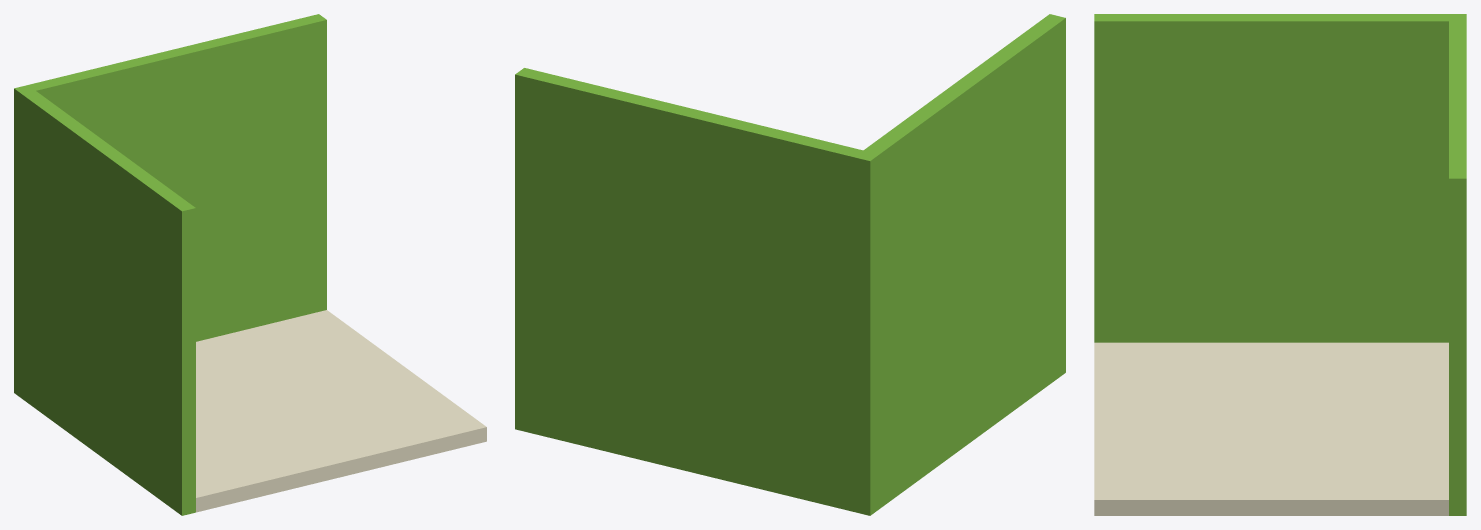
File: room_green.glb
The picture shows the model from 3 angles, left to right: view 1: azimuth 30°, elevation 25°; view 2: azimuth 150°, elevation 25°; view 3: azimuth 270°, elevation 25°; orthographic projection. The views are drawn at different scales.
Parts seen in each view (by area): view 1: wall; view 2: wall; view 3: wall.
Part boxes in pixels (x1,y1,x2,y2): wall: (14,14,486,515); wall: (515,14,1065,515); wall: (1094,14,1466,515).
Bounding box in the file's own units: 0.44 × 0.42 × 0.42.
1 material, 1 textured.
